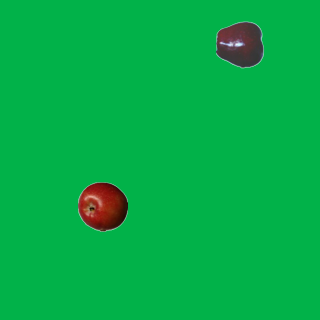Apple Braeburn: (77, 181, 127, 231)
Apple Red Delicious: (215, 19, 265, 69)
